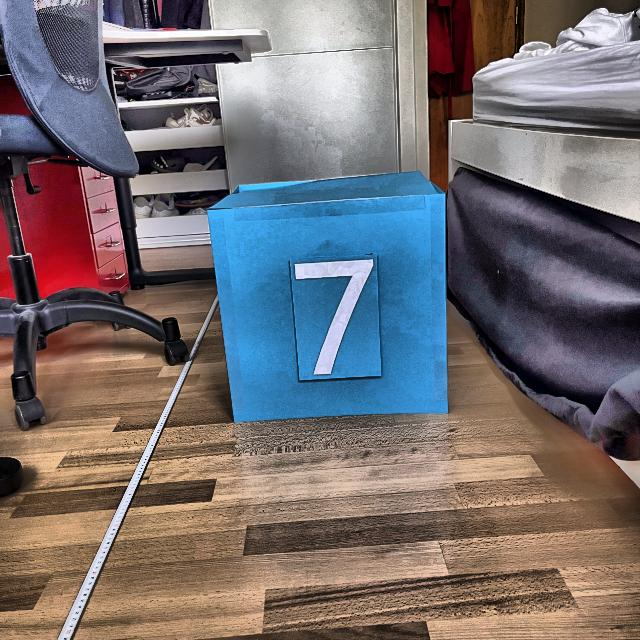blue box: (202, 168, 456, 422)
seven: (292, 259, 380, 378)
